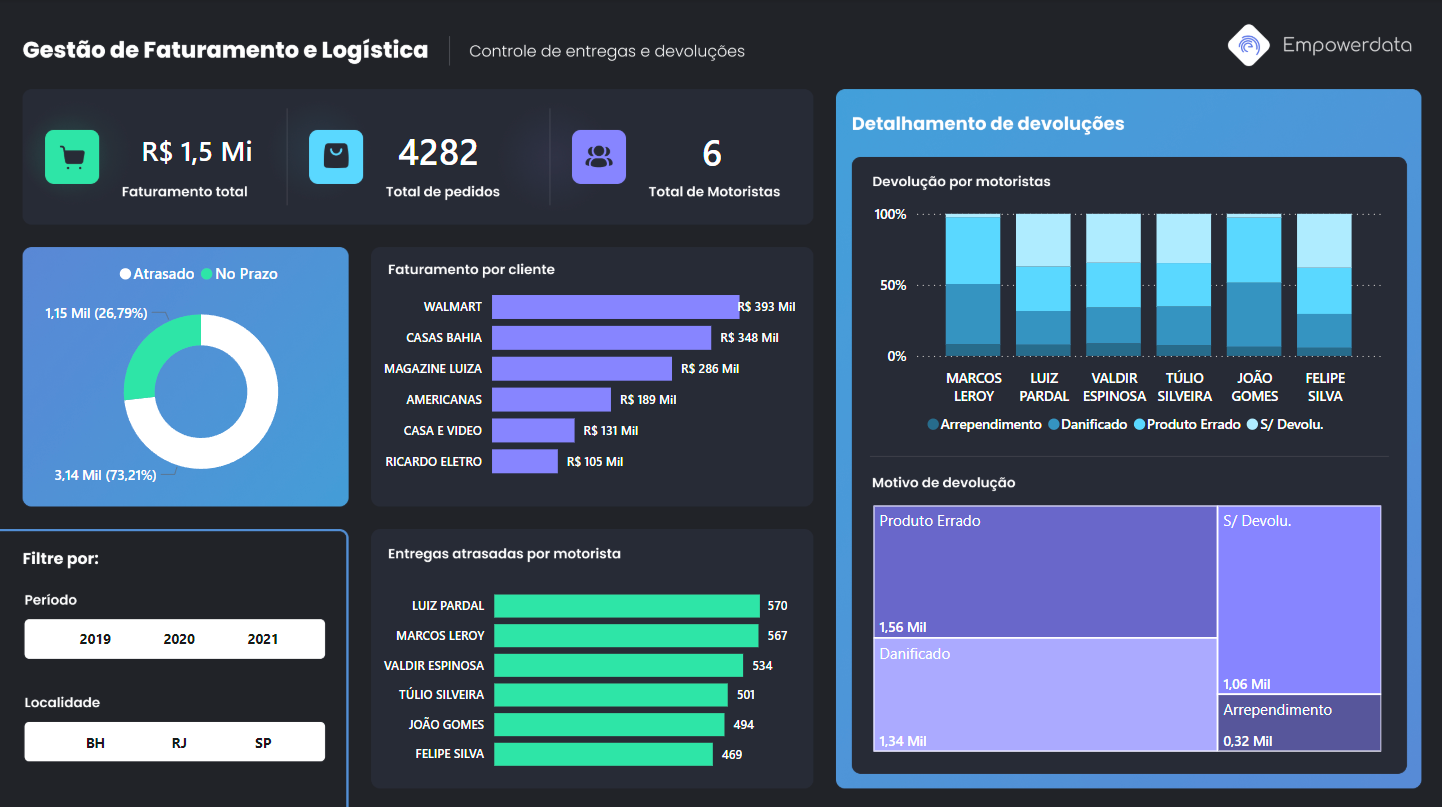

What the dashboard file says about the page in this screenshot:
{"tool":"powerbi","page":{"name":"Logistica","canvas":[1280,720],"ordinal":0},"visuals":[{"type":"clusteredBarChart","fields":{"Y":["tbFaturamento.R$ Faturados"],"Category":["tbFaturamento.Cliente"]},"box":[334.3,238.5,376,198.6],"z":0},{"type":"slicer","fields":{"Values":["logistica.Data Emissão Pedido.Variation.Hierarquia de datas.Ano"]},"box":[22.2,548,271.3,35.5],"z":1000},{"type":"slicer","fields":{"Values":["tbFaturamento.Destino"]},"box":[22.2,639.3,271.3,39.9],"z":2000},{"type":"donutChart","title":"Status da Entrega","fields":{"Category":["tbFaturamento.Status"],"Y":["tbFaturamento.Nº Pedido"]},"box":[22.2,223.4,312.1,220.8],"z":3000},{"type":"treemap","title":"Motivo de devolucao","fields":{"Group":["tbFaturamento.Mot. Devolução"],"Values":["tbFaturamento.Nº Pedido"]},"box":[769.7,444.2,460.2,227.9],"z":4000},{"type":"clusteredBarChart","title":"Entregas Atrasadas por Motorista","fields":{"Category":["tbFaturamento.Motorista"],"Y":["tbFaturamento.Nº Pedido"]},"box":[334.3,504.5,368.9,191.5],"z":5000},{"type":"hundredPercentStackedColumnChart","title":"Devolucao por Motorias","fields":{"Category":["tbFaturamento.Motorista"],"Y":["tbFaturamento.Nº Pedido"],"Series":["tbFaturamento.Mot. Devolução"]},"box":[769.7,176.5,460.2,219],"z":6000},{"type":"card","fields":{"Values":["tbFaturamento.R$ Faturados"]},"box":[94.9,99.3,159.6,71.8],"z":7000},{"type":"card","fields":{"Values":["tbFaturamento.Nº Pedido"]},"box":[334.3,104.6,109.1,61.2],"z":8000},{"type":"card","fields":{"Values":["tbFaturamento.Motorista"]},"box":[571.9,110,118.8,51.4],"z":9000}]}

Visuals, with their boxes in screenshot pixels (x1, y1, x2, y2), scaled from the page's 1280x720 canvas onto the 1442x807 screenshot:
clusteredBarChart - tbFaturamento.R$ Faturados x tbFaturamento.Cliente: box(377, 267, 800, 490)
slicer - logistica.Data Emissão Pedido.Variation.Hierarquia de datas.Ano: box(25, 614, 331, 654)
slicer - tbFaturamento.Destino: box(25, 717, 331, 761)
"Status da Entrega" donutChart: box(25, 250, 377, 498)
"Motivo de devolucao" treemap: box(867, 498, 1386, 753)
"Entregas Atrasadas por Motorista" clusteredBarChart: box(377, 565, 792, 780)
"Devolucao por Motorias" hundredPercentStackedColumnChart: box(867, 198, 1386, 443)
card - tbFaturamento.R$ Faturados: box(107, 111, 287, 192)
card - tbFaturamento.Nº Pedido: box(377, 117, 500, 186)
card - tbFaturamento.Motorista: box(644, 123, 778, 181)
